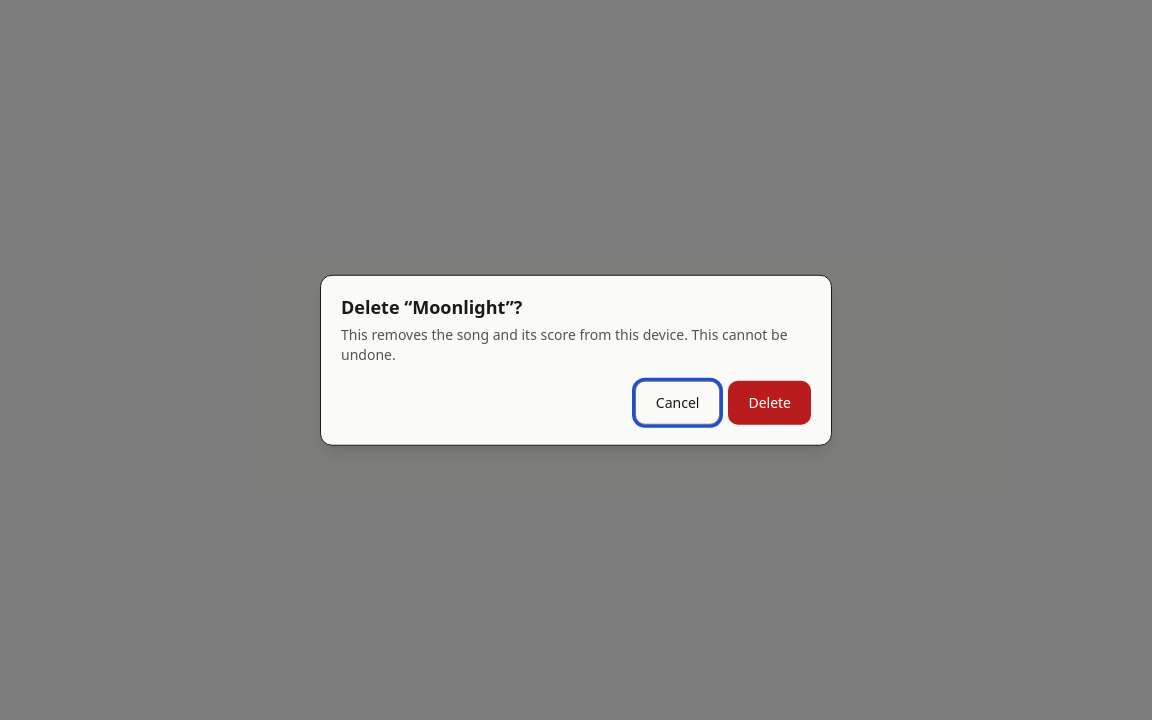
Test case: explains when the song could not be deleted and stays open
Click the button "Delete": (770, 402) [728,380,811,424]
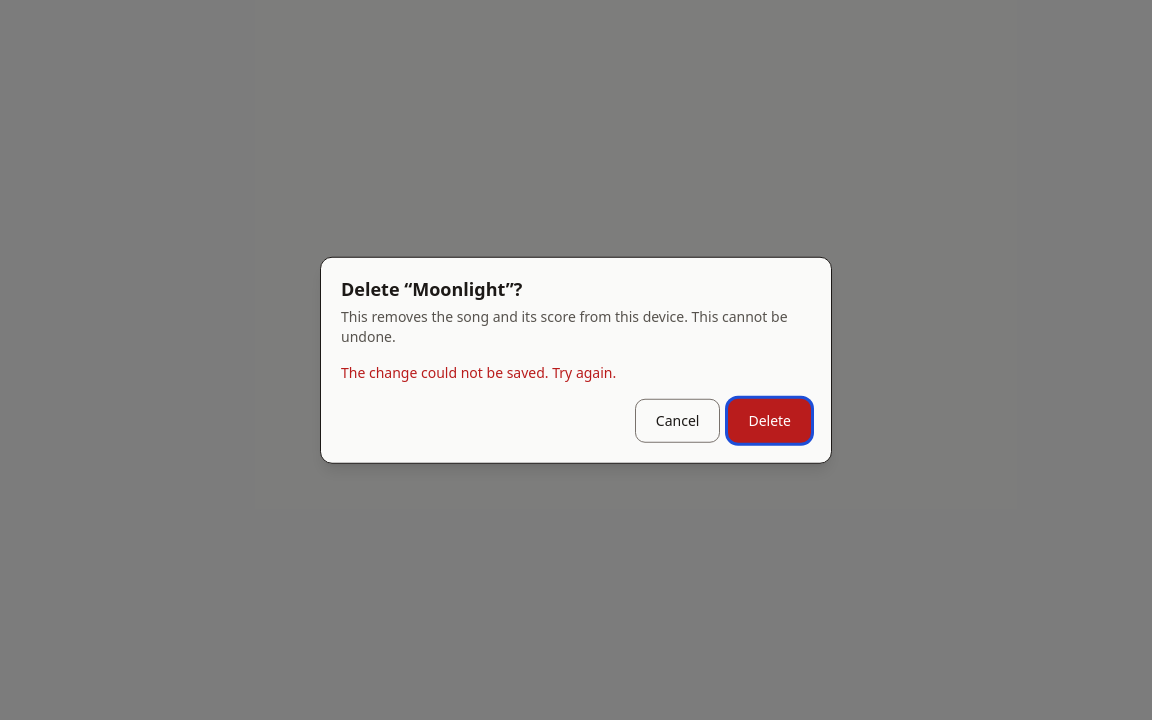
Expected: the message "The change could not be saved. Try again." is shown, [341,362,616,381]
